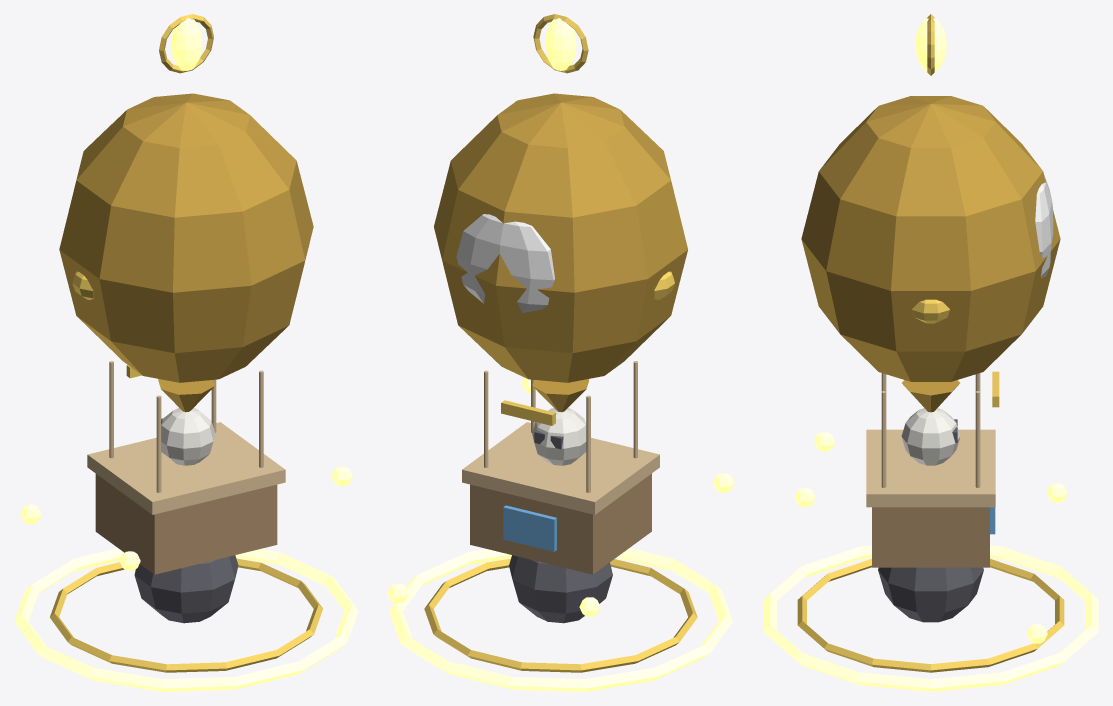
The model's file is hero_balloon.glb.
3 renders of one model, left to right at view 1: azimuth 30°, elevation 25°; view 2: azimuth 150°, elevation 25°; view 3: azimuth 270°, elevation 25°, orthographic.
Visible parts, largest first — view 1: hero_balloon; view 2: hero_balloon; view 3: hero_balloon.
Boxes of the visible parts, x1,y1,x2,y2 form: hero_balloon: (14, 14, 358, 691); hero_balloon: (387, 14, 734, 691); hero_balloon: (763, 14, 1098, 691).
Bounding box in the file's own units: 3.27 × 6.35 × 3.19.
